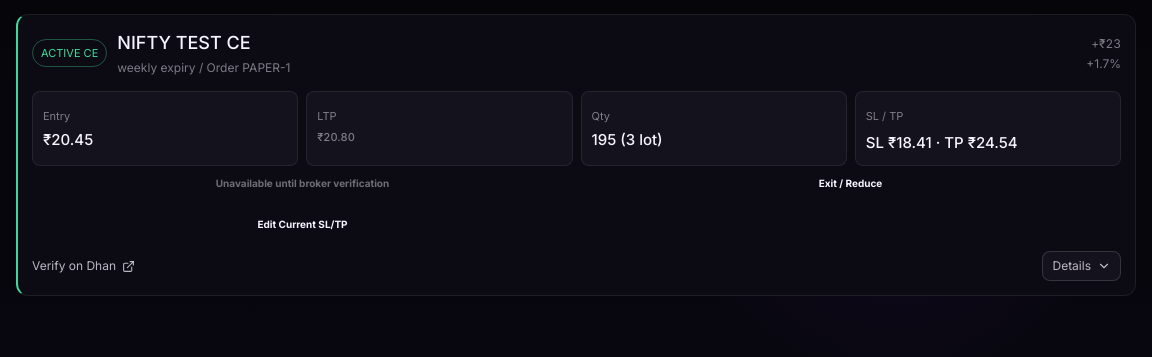
Scenario: ActiveTradeCard runtime truth › keeps Live Add Lots and partial reductions disabled until broker verification
Expected: the button "Unavailable until broker verification" is disabled, [32,166,573,200]
What coordinates should you click on to do the following:
click the button "Exit / Reduce"
I would click on:
 (850, 183)
Its box is [580,166,1121,200].
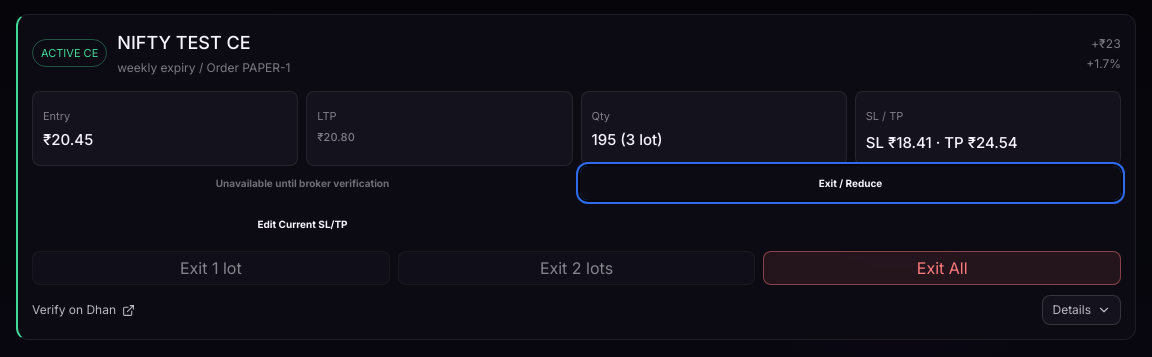
Expected: the button "Exit 1 lot" is disabled, [32,251,390,285]
Expected: the button "Exit 2 lots" is disabled, [398,251,755,285]
Expected: the button "Exit All" is enabled, [763,251,1121,285]
